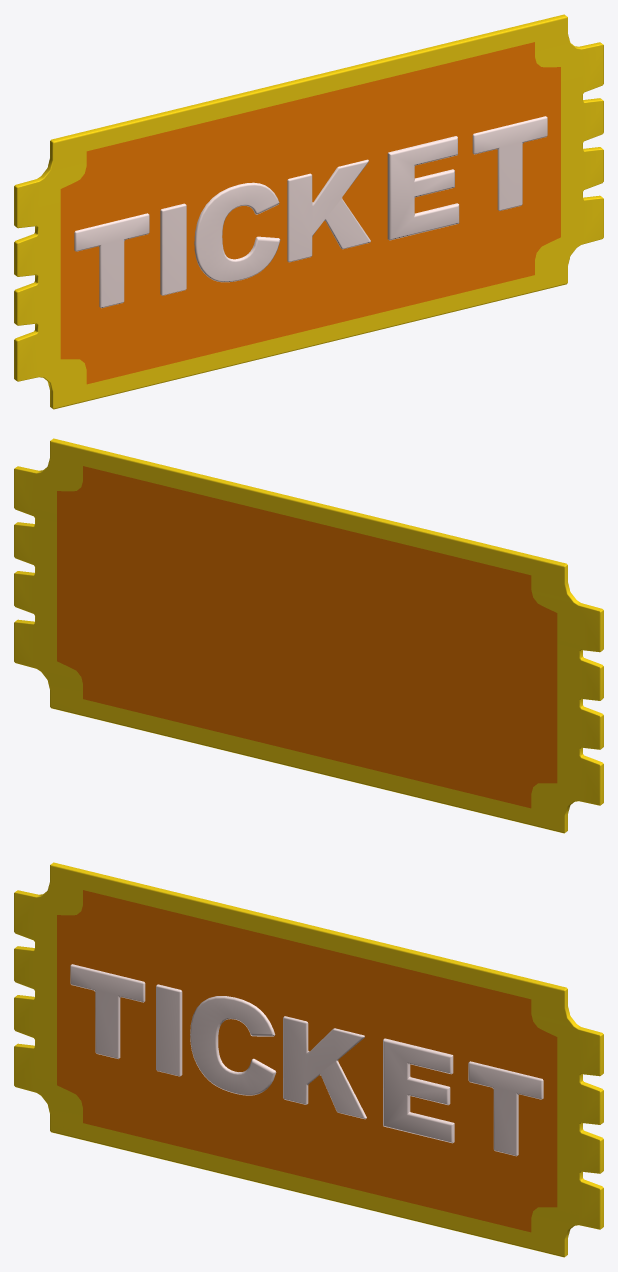
The model's file is Public_4_Cinema_Ticket_1.glb.
3 views of the same model, one above another, from view 1: azimuth 30°, elevation 25°; view 2: azimuth 150°, elevation 25°; view 3: azimuth 330°, elevation 25° (orthographic).
Parts seen in each view (by area): view 1: Public_4_Cinema_Ticket_1; view 2: Public_4_Cinema_Ticket_1; view 3: Public_4_Cinema_Ticket_1.
Part boxes in pixels (x1,y1,x2,y2): Public_4_Cinema_Ticket_1: (14, 14, 603, 409); Public_4_Cinema_Ticket_1: (14, 438, 603, 833); Public_4_Cinema_Ticket_1: (14, 862, 603, 1257).
Bounding box in the file's own units: 3 × 1.31 × 0.0478.
1 material, 1 textured.
